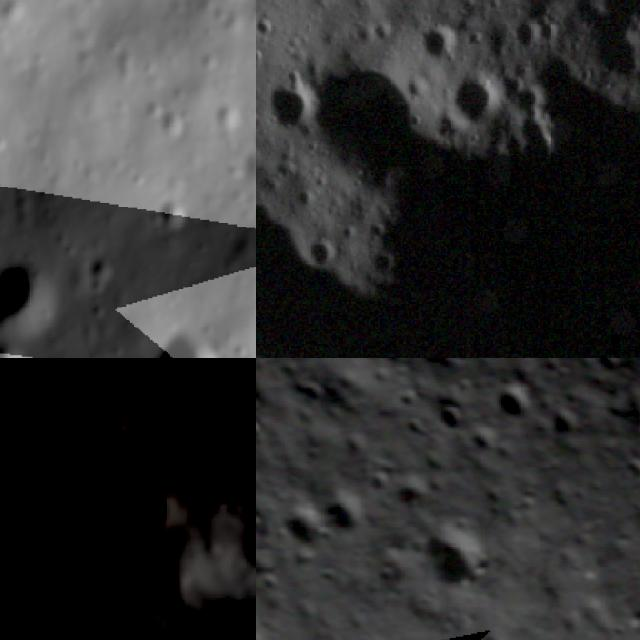crater: (57, 432, 214, 582), (312, 45, 450, 179), (399, 497, 517, 620), (477, 366, 552, 443), (306, 480, 380, 558), (268, 494, 336, 567), (374, 464, 439, 530), (0, 250, 52, 327), (264, 69, 318, 140), (450, 66, 511, 128), (425, 393, 481, 448), (135, 326, 224, 358), (140, 92, 184, 152), (147, 188, 200, 234), (158, 616, 256, 640), (420, 19, 459, 70), (304, 228, 346, 270), (429, 358, 492, 386), (535, 11, 572, 53), (511, 13, 545, 53), (256, 403, 276, 457), (371, 16, 399, 44), (256, 14, 279, 43), (0, 337, 26, 358)
